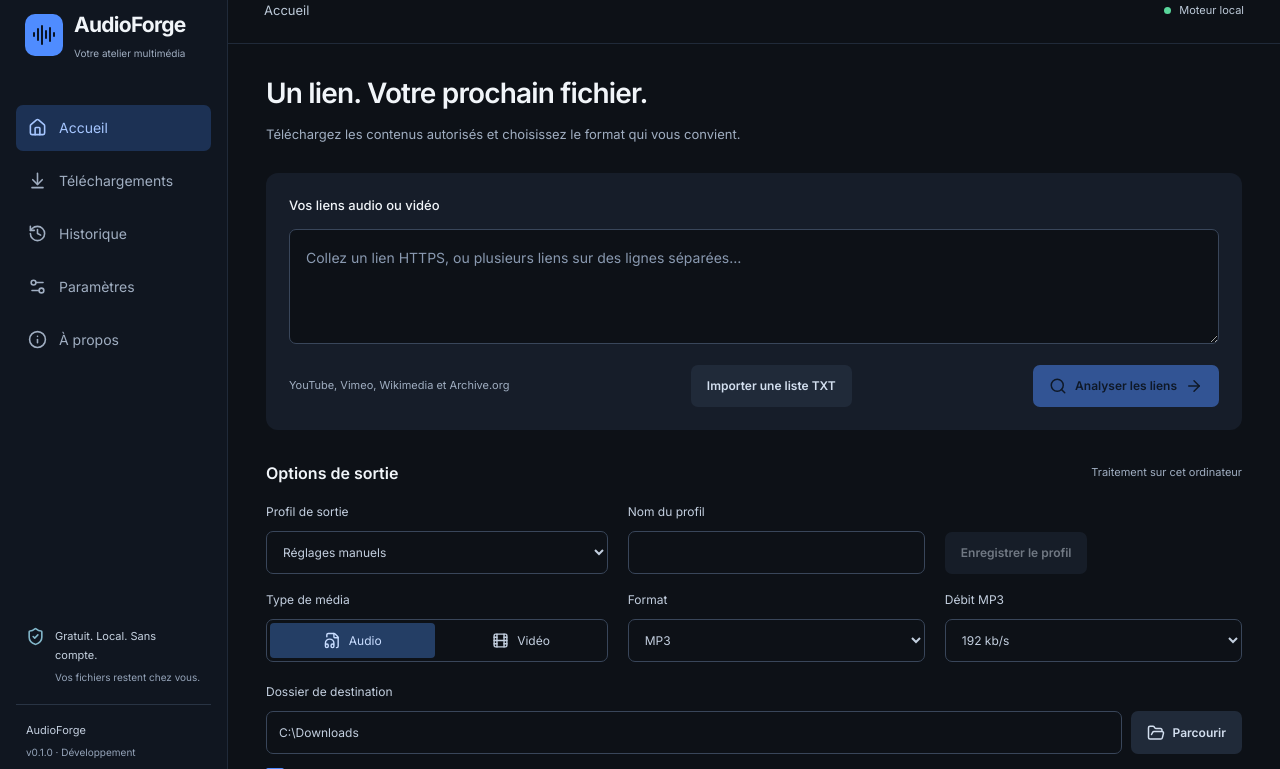
Test: parcours natifs avec IPC simulé › respecte la désélection dans une playlist
Later steps or results of the test are not shown.
Type "https://vimeo.com/123" into the text box labelled "Vos liens audio ou vidéo" at x=754, y=286, box [289, 229, 1219, 344]
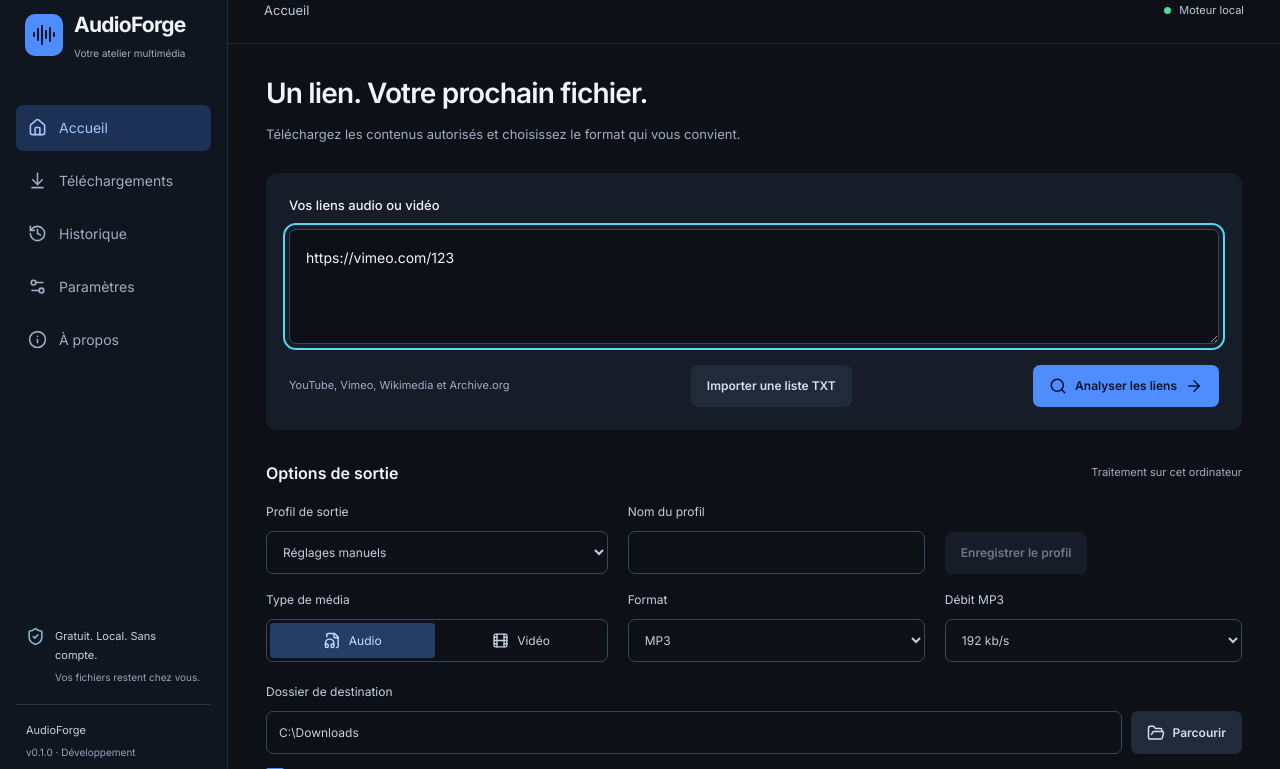
Click the button "Analyser les liens" at x=1126, y=386, box [1033, 365, 1219, 407]
(page scrolled)
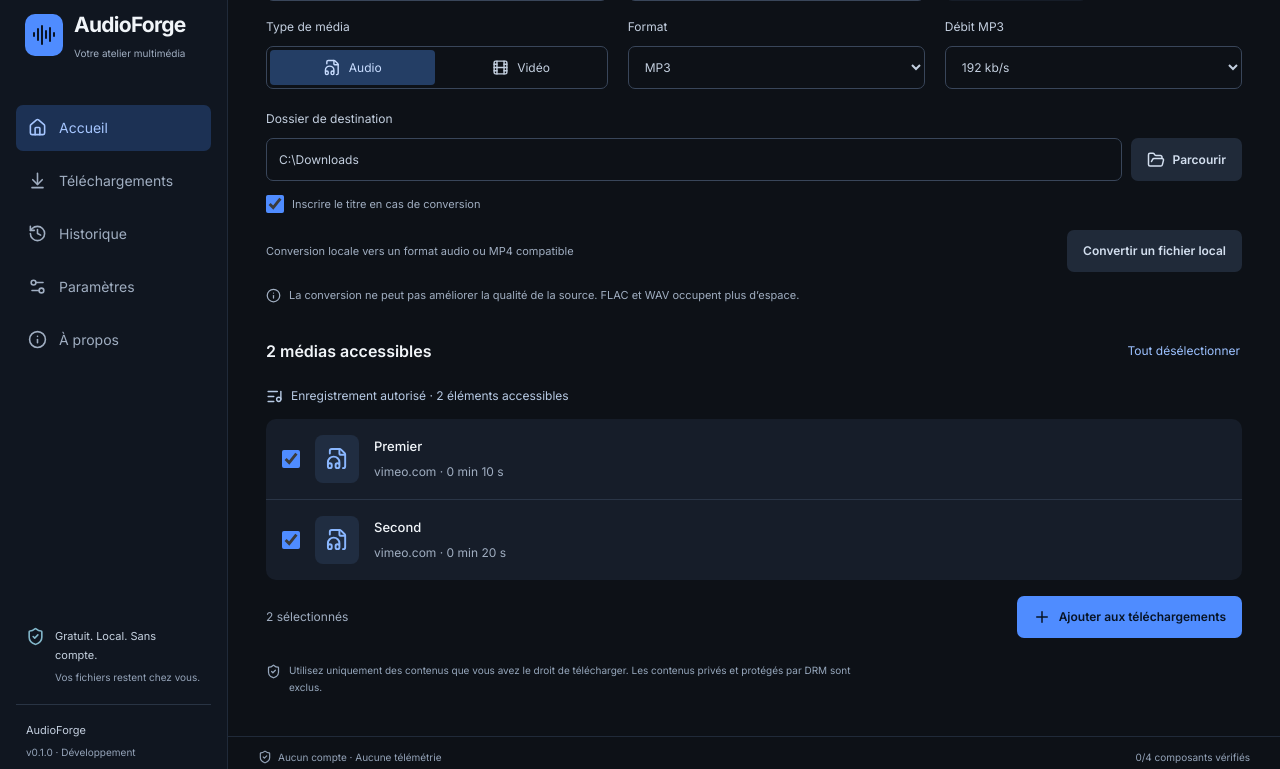
Check: the text "Premier" is shown, box [374, 438, 422, 454]
